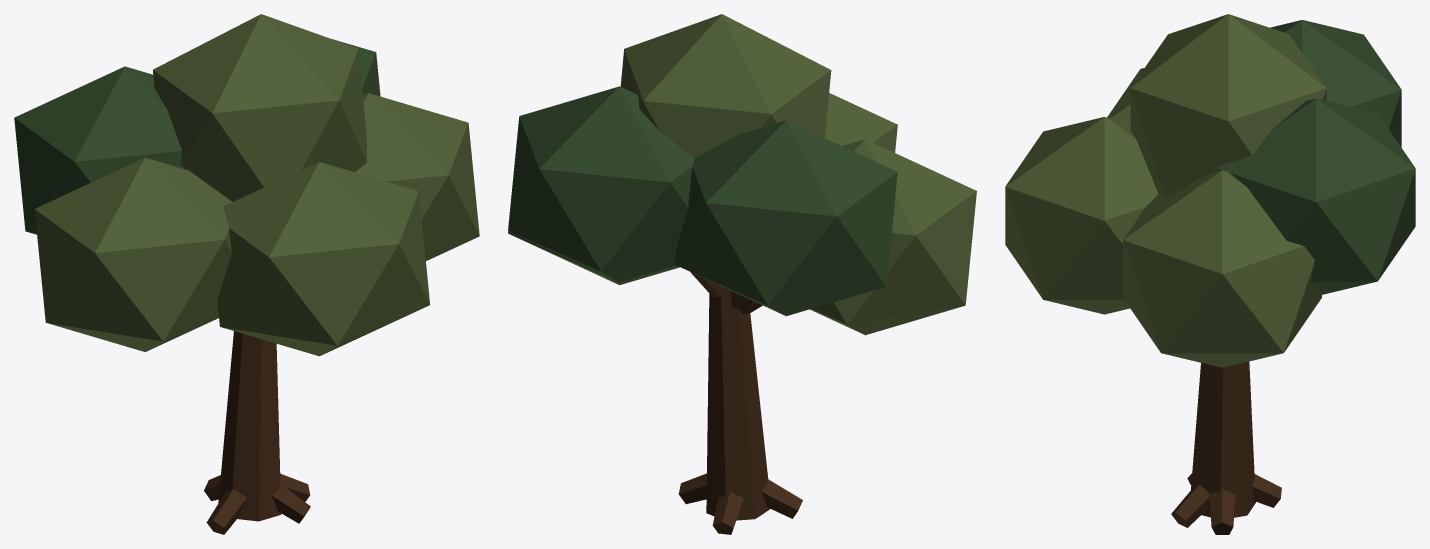
Rendered from SM_ENV_Tree_01_Oak.glb.
The picture shows the model from 3 angles, left to right: view 1: azimuth 30°, elevation 25°; view 2: azimuth 150°, elevation 25°; view 3: azimuth 270°, elevation 25°; orthographic projection.
Visible parts, largest first — view 1: SM_ENV_Tree_01_Oak; view 2: SM_ENV_Tree_01_Oak; view 3: SM_ENV_Tree_01_Oak.
Boxes of the visible parts, x1,y1,x2,y2 form: SM_ENV_Tree_01_Oak: [14, 14, 479, 534]; SM_ENV_Tree_01_Oak: [508, 14, 976, 534]; SM_ENV_Tree_01_Oak: [1005, 14, 1415, 534].
Size of the model in its own units: 3.31 by 3.61 by 2.67.
